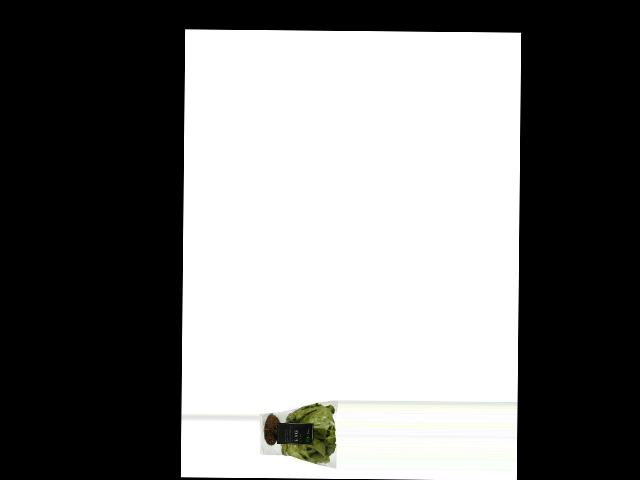lettuce: (259, 400, 337, 466)
